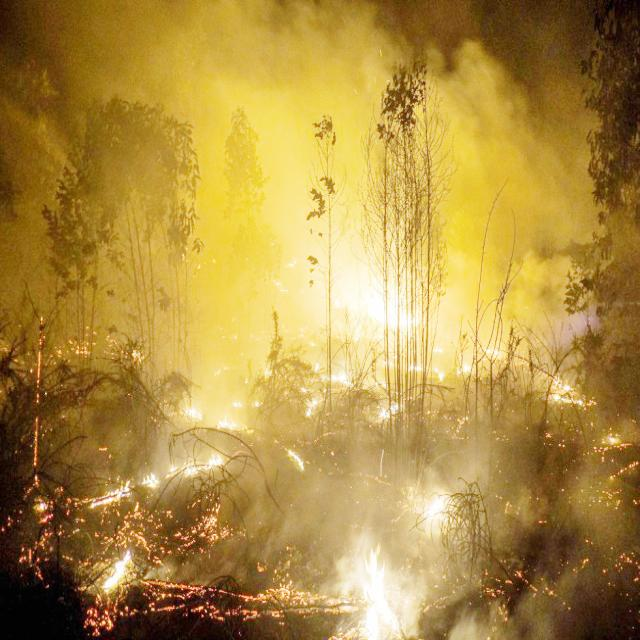api: (343, 526, 403, 640), (362, 265, 430, 337), (411, 484, 460, 527), (552, 369, 594, 417), (104, 545, 139, 594), (88, 477, 137, 510), (181, 453, 224, 484), (374, 398, 411, 424), (284, 448, 309, 475), (179, 408, 207, 429), (455, 364, 484, 384), (325, 369, 354, 389), (483, 340, 509, 362), (302, 392, 323, 417), (217, 416, 242, 435), (141, 470, 163, 488)
